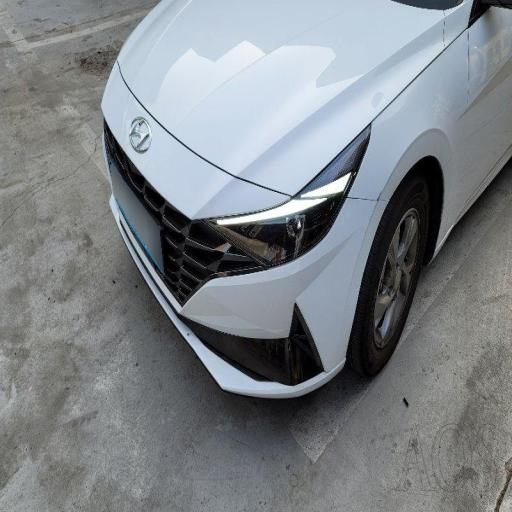scratch: (141, 29, 399, 161)
